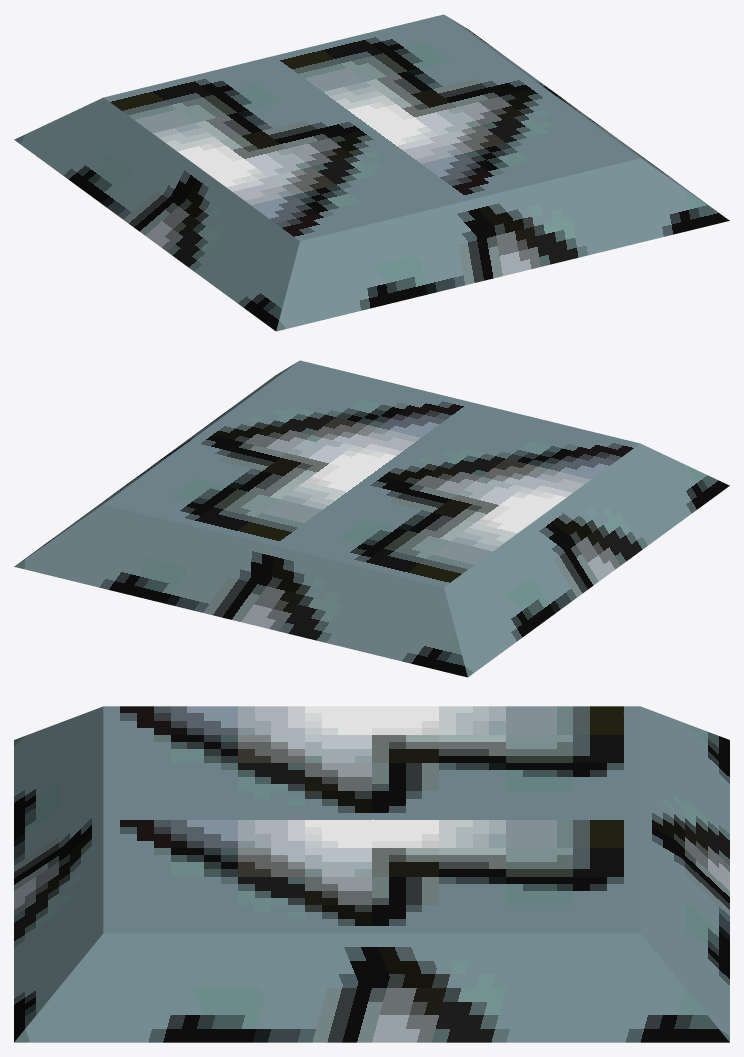
File: cv_lift_btn.glb
The picture shows the model from 3 angles, top to bottom: view 1: azimuth 30°, elevation 25°; view 2: azimuth 150°, elevation 25°; view 3: azimuth 270°, elevation 25°; orthographic projection. The views are drawn at different scales.
Parts seen in each view (by area): view 1: cv_lift_btn; view 2: cv_lift_btn; view 3: cv_lift_btn.
Boxes of the visible parts, x1,y1,x2,y2 form: cv_lift_btn: [14, 14, 729, 331]; cv_lift_btn: [14, 360, 729, 677]; cv_lift_btn: [14, 706, 729, 1042].
Size of the model in its own units: 12.5 by 1.38 by 12.5.
1 material, 1 textured.
